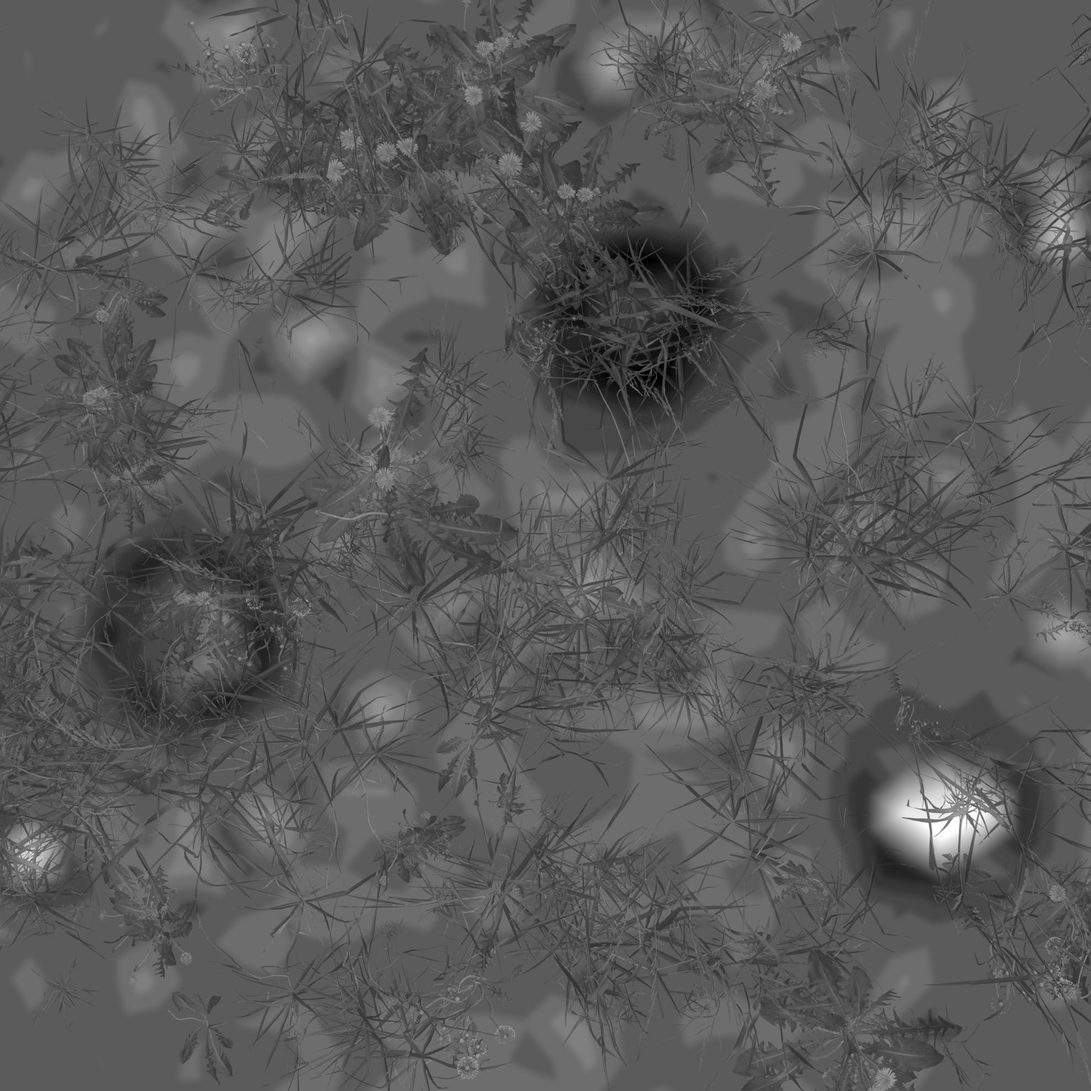landmine: (546, 224, 716, 409), (847, 726, 1037, 891), (99, 543, 277, 718)
